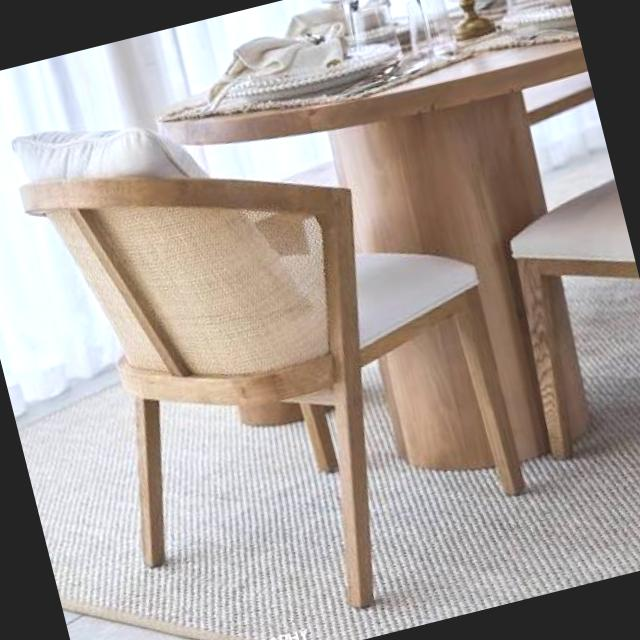Chair: (0, 92, 539, 619)
